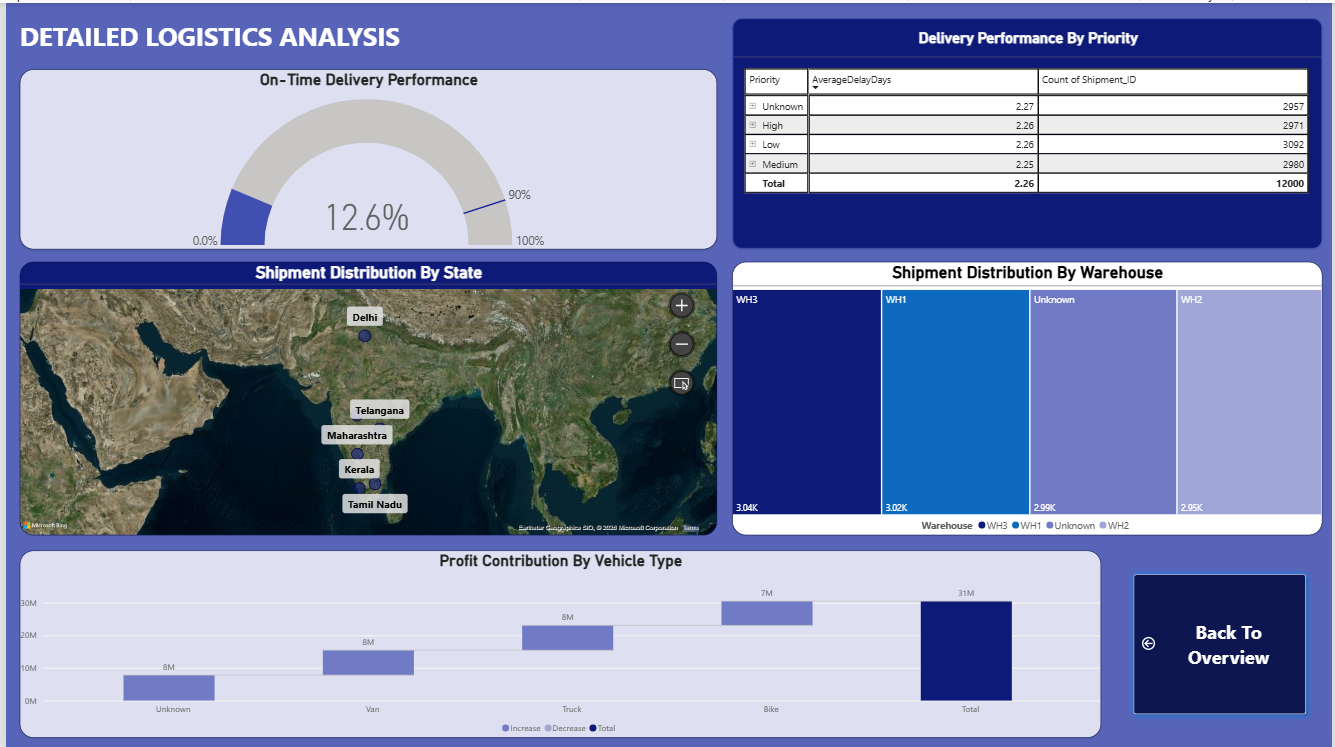

What the dashboard file says about the page in this screenshot:
{"tool":"powerbi","page":{"name":"Detailed Analysis","canvas":[1920,1080],"ordinal":1},"visuals":[{"type":"treemap","title":"Shipment Distribution By Warehouse","fields":{"Group":["Cleaned_Logistics Data.Warehouse"],"Values":["Count(Cleaned_Logistics Data.Shipment_ID)"]},"box":[1051.4,374.6,854.2,396.3],"z":0},{"type":"waterfallChart","title":"Profit Contribution By Vehicle Type","fields":{"Category":["Cleaned_Logistics Data.Vehicle_Type"],"Y":["Sum(Cleaned_Logistics Data.ShipmentProfit)"]},"box":[19.9,792.6,1565.4,271.4],"z":1000},{"type":"pivotTable","title":"Delivery Performance By Priority","fields":{"Rows":["Cleaned_Logistics Data.Priority","Cleaned_Logistics Data.Delivery_Type"],"Values":["Cleaned_Logistics Data.AverageDelayDays","Count(Cleaned_Logistics Data.Shipment_ID)"]},"box":[1051.4,21.7,854.2,334.8],"z":2000},{"type":"map","title":"Shipment Distribution By State","fields":{"Category":["Cleaned_Logistics Data.State"],"Size":["Count(Cleaned_Logistics Data.Shipment_ID)"]},"box":[19.9,374.6,1009.8,396.3],"z":3000},{"type":"gauge","title":"On-Time Delivery Performance","fields":{"Y":["Cleaned_Logistics Data.On-TimeDelivery%"],"MaxValue":["Cleaned_Logistics Data.GaugeMaximum"],"TargetValue":["Cleaned_Logistics Data.On-TimeTarget"]},"box":[19.9,95.9,1009.8,260.6],"z":4000},{"type":"actionButton","box":[1623.3,818,267.8,220.8],"z":4001},{"type":"textbox","box":[19.9,21.7,1009.8,68.8],"z":4002}]}

Visuals, with their boxes in screenshot pixels (x1, y1, x2, y2), scaled from the page's 1920x1080 canvas onto the 1335x747 screenshot:
"Shipment Distribution By Warehouse" treemap: <box>731,259,1325,533</box>
"Profit Contribution By Vehicle Type" waterfallChart: <box>14,548,1102,736</box>
"Delivery Performance By Priority" pivotTable: <box>731,15,1325,247</box>
"Shipment Distribution By State" map: <box>14,259,716,533</box>
"On-Time Delivery Performance" gauge: <box>14,66,716,247</box>
actionButton: <box>1129,566,1315,719</box>
textbox: <box>14,15,716,63</box>
